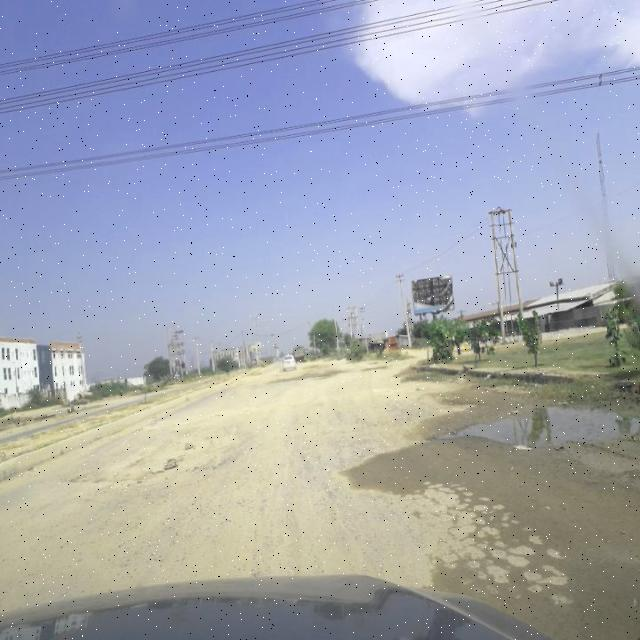D20: (371, 452, 606, 630)
